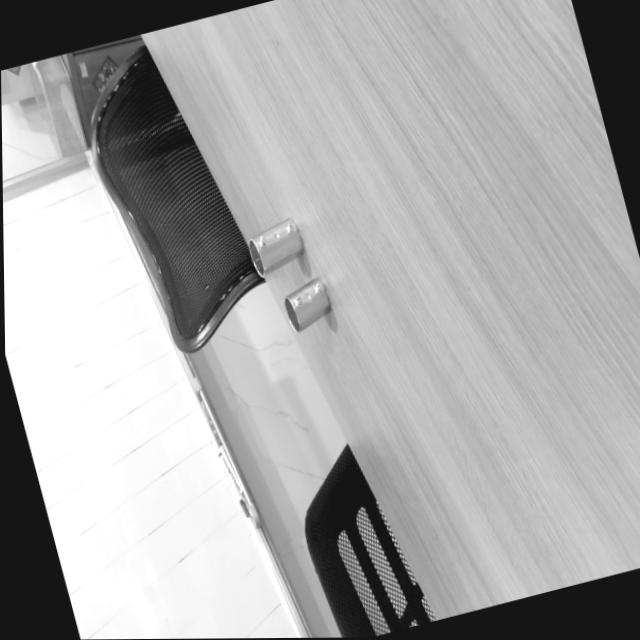Co_Lon: (240, 215, 309, 279)
Co_Nho: (275, 275, 337, 334)
